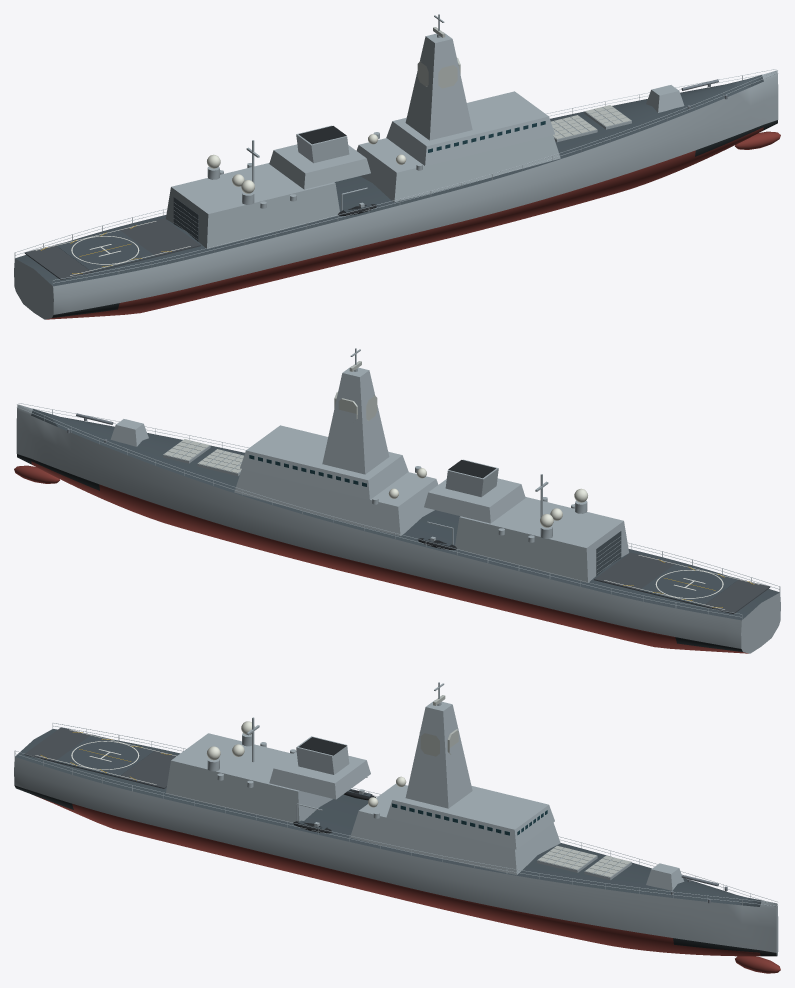
The model's file is rfn_ffg_admiral_gorshkov.glb.
3 renders of one model, top to bottom at view 1: azimuth 30°, elevation 25°; view 2: azimuth 150°, elevation 25°; view 3: azimuth 330°, elevation 25°, orthographic.
Parts seen in each view (by area): view 1: naval_paint, deck_non_skid, antifouling, flight_deck, array_face, boot_topping, rubber, radome, marking_white; view 2: naval_paint, deck_non_skid, antifouling, flight_deck, array_face, boot_topping, rubber, radome, marking_white; view 3: naval_paint, deck_non_skid, antifouling, flight_deck, array_face, rubber, boot_topping, radome, marking_white.
Boxes of the visible parts, <box> form: naval_paint: <box>14,14,778,319</box>; deck_non_skid: <box>15,75,763,286</box>; antifouling: <box>46,127,780,319</box>; flight_deck: <box>24,218,200,280</box>; array_face: <box>417,27,630,139</box>; boot_topping: <box>52,120,777,317</box>; rubber: <box>299,126,376,215</box>; radome: <box>207,134,406,193</box>; marking_white: <box>35,221,190,275</box>; naval_paint: <box>16,348,780,653</box>; deck_non_skid: <box>31,409,779,620</box>; antifouling: <box>14,461,748,653</box>; flight_deck: <box>594,552,770,614</box>; array_face: <box>164,361,377,473</box>; boot_topping: <box>17,454,742,651</box>; rubber: <box>418,460,495,549</box>; radome: <box>388,468,587,527</box>; marking_white: <box>604,555,759,609</box>; naval_paint: <box>14,682,778,956</box>; deck_non_skid: <box>15,729,761,906</box>; antifouling: <box>36,796,780,973</box>; flight_deck: <box>24,727,176,788</box>; array_face: <box>419,695,630,877</box>; rubber: <box>293,737,375,833</box>; boot_topping: <box>14,785,776,956</box>; radome: <box>206,721,406,807</box>; marking_white: <box>35,730,176,784</box>.
Bounding box in the file's own units: 10 × 2.74 × 1.23.
